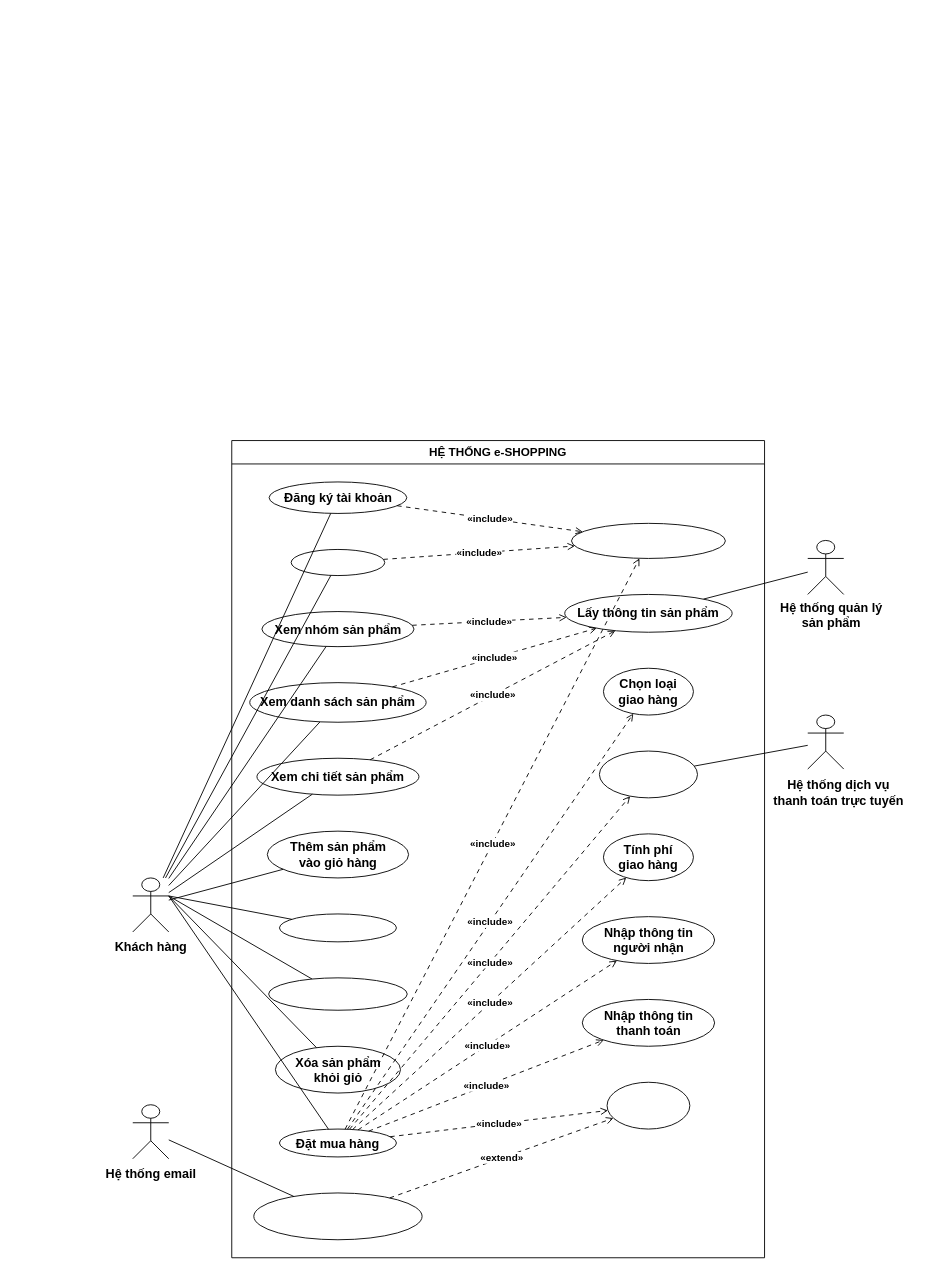
Image size: 937x1274. Some labels were removed from this diagram. Here are the shapes that lost their labels. From the top down, the centre of each, then its label:
point (648, 540): Xác thực khách hàng
point (337, 562): Đăng nhập
point (648, 774): Xác thực thanh toán
point (337, 927): Xem giỏ hàng
point (337, 993): Cập nhật giỏ hàng
point (648, 1105): Ghi nhận đơn hàng
point (337, 1216): Gửi email xác nhận đơn hàng
